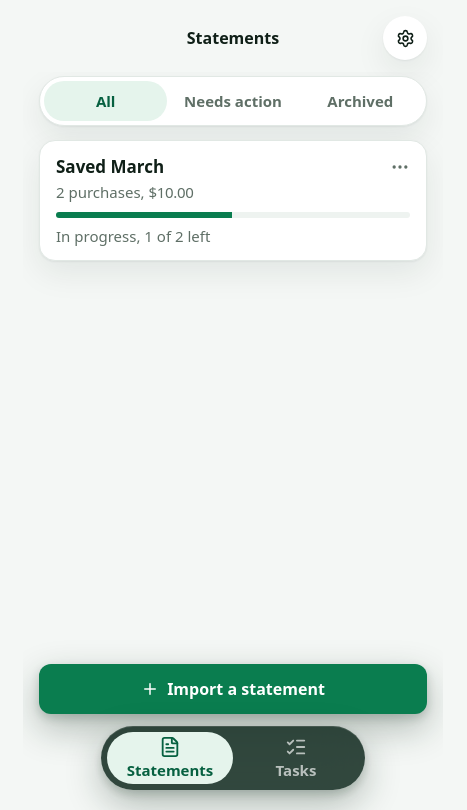
Test case: App › Tour › replays from Settings without touching real statements, and skipping returns to Settings
Check: the button "Saved March 2 purchases, $10.00 In progress, 1 of 2 left" is shown, box [40,141,426,260]
Check: the element "Tour" is not shown
Step 1. Click the button named "Settings" → coordinates (405, 38), box [383,16,427,60]
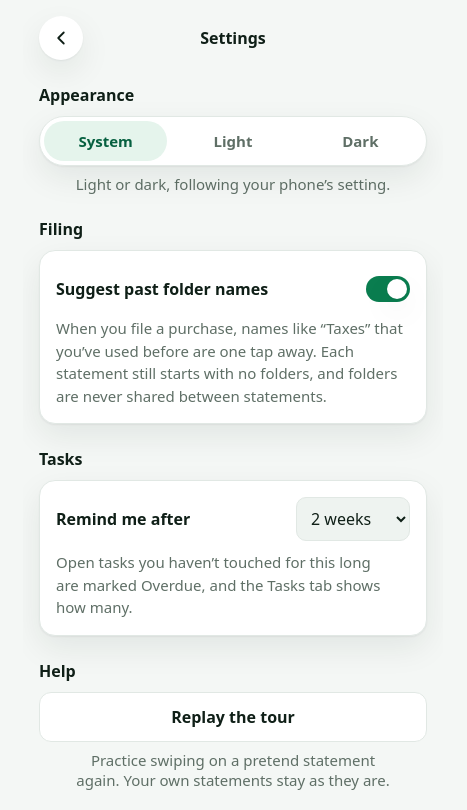
Step 2. Click the button "Replay the tour" → coordinates (233, 716), box [39,692,427,742]
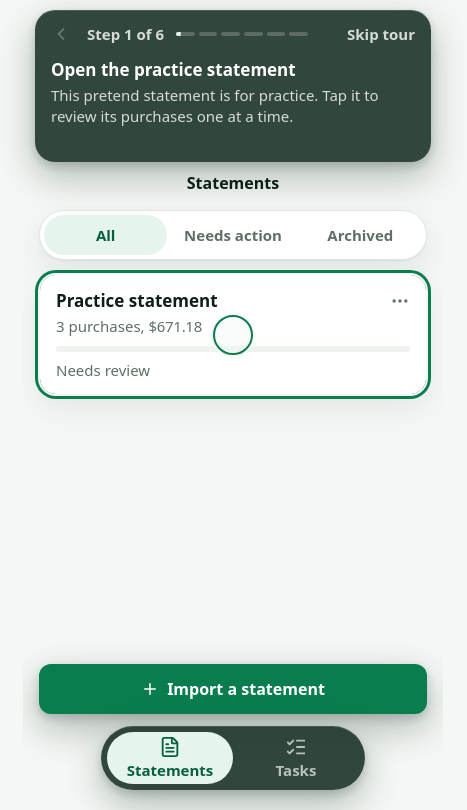
Check: the button "Saved March" is not shown
Check: the element "tour" shows "Step 1 of 6", box [87,24,164,44]
Check: the button "Practice statement 3 purchases, $671.18 Needs review" is shown, box [40,275,426,394]
Step 3. Click the button "Skip tour" → coordinates (381, 34), box [339,12,423,56]
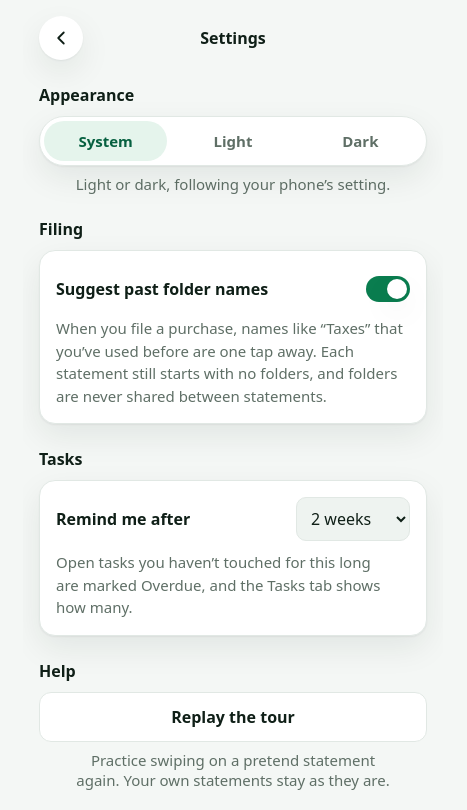
Check: the button "Replay the tour" is shown, box [39,692,427,742]
Step 4. Click the button named "Back to statements" → coordinates (61, 38), box [39,16,83,60]
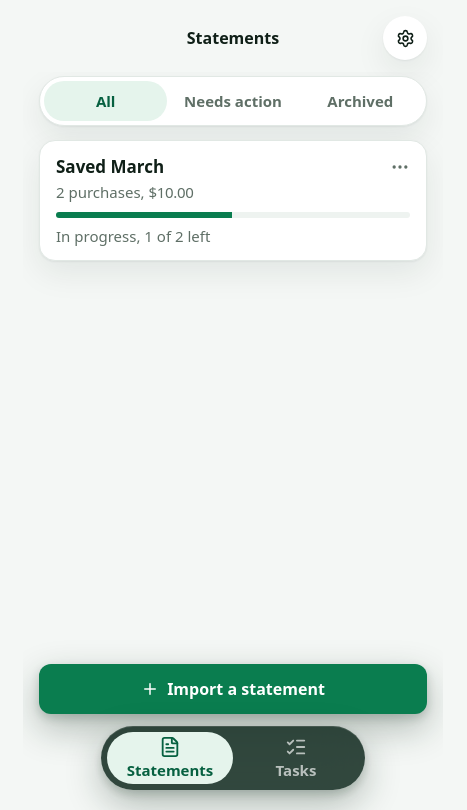
Check: the button "Saved March 2 purchases, $10.00 In progress, 1 of 2 left" is shown, box [40,141,426,260]
Check: the text "In progress, 1 of 2 left" is shown, box [56,226,210,246]
